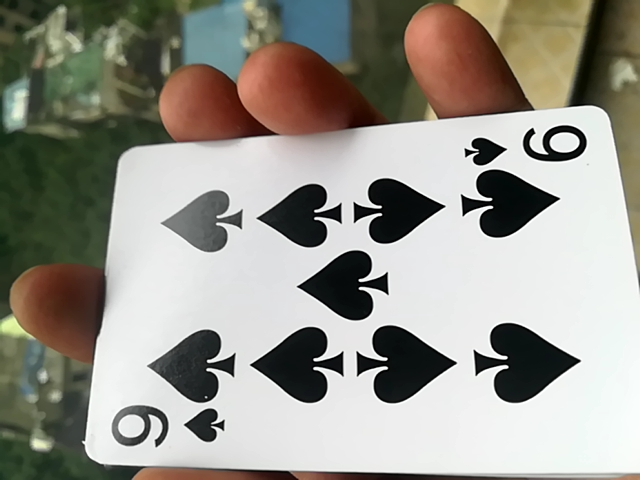ht 9: (66, 115, 635, 479)
